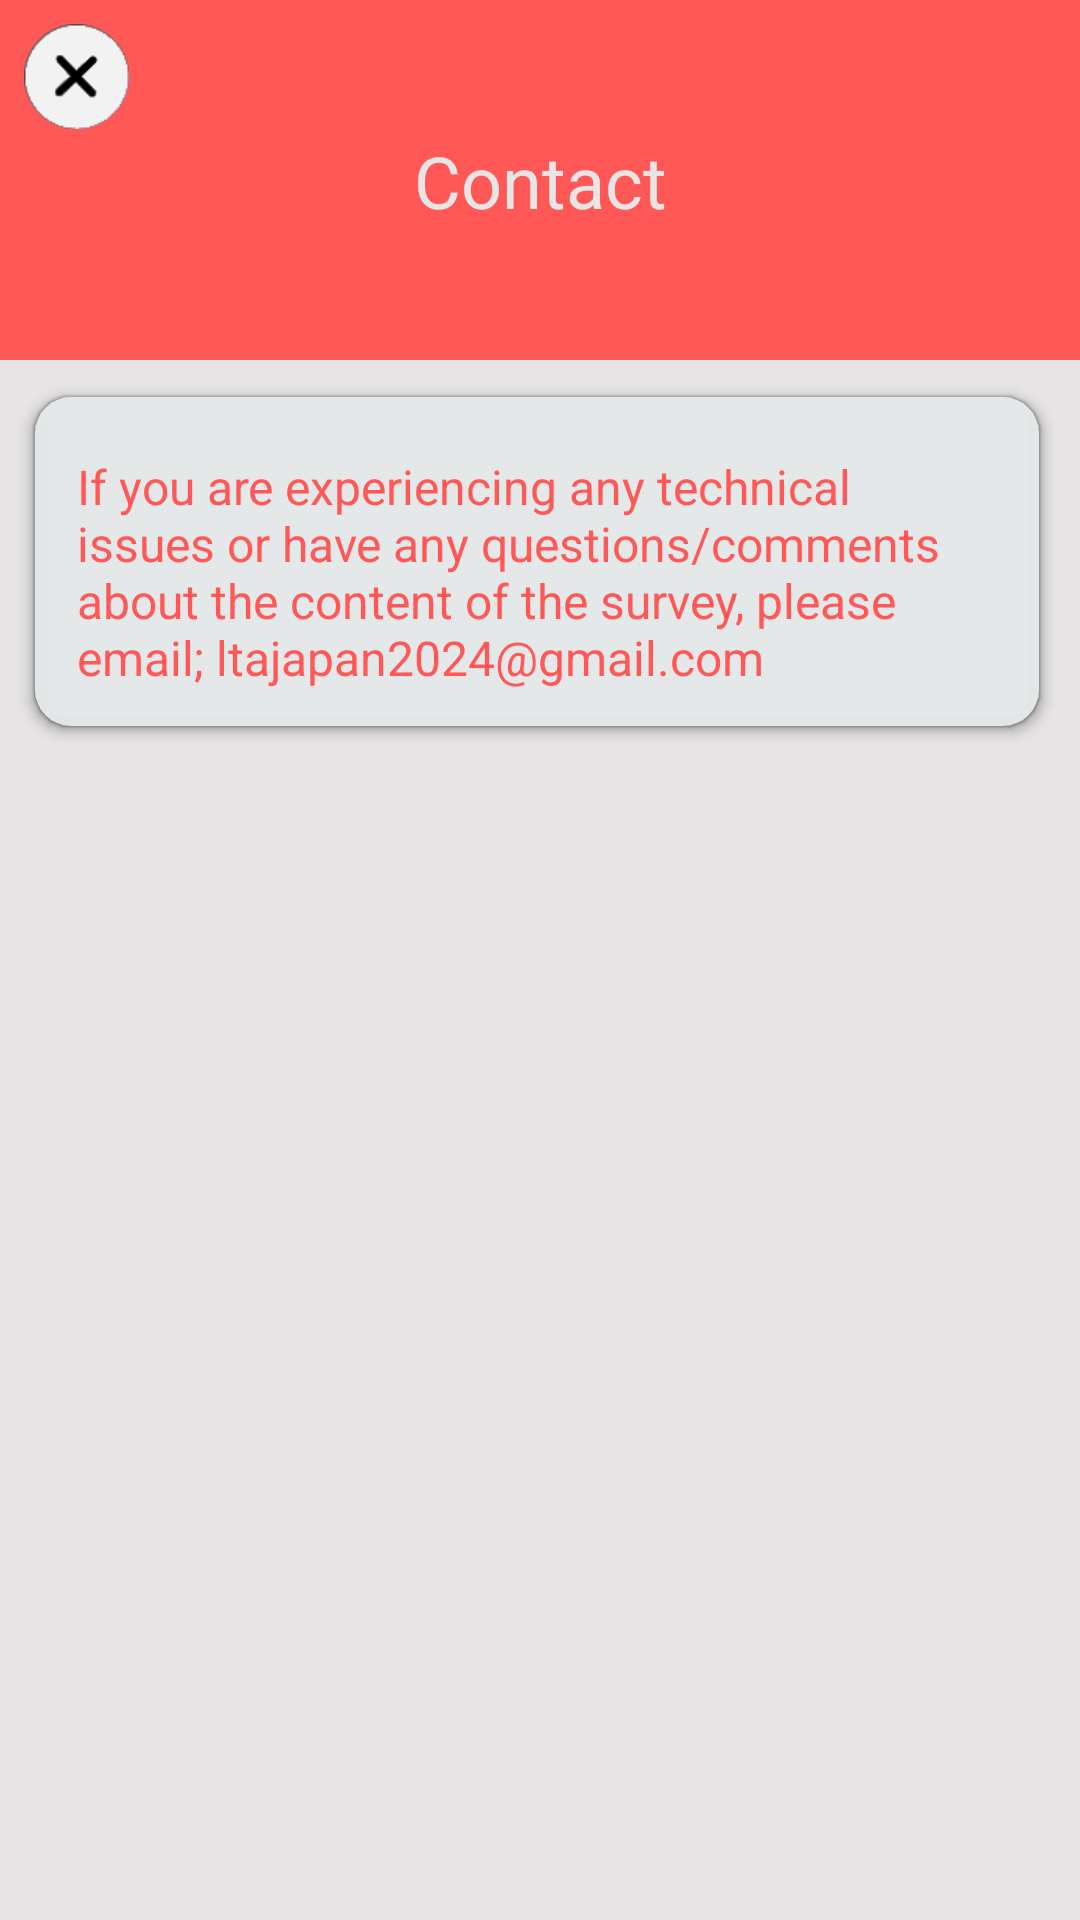

Locate icon controls on the screen. Image size 1080px x 1920px, boxes as BBox(x1, y1, x2, y2).
close: BBox(24, 24, 129, 129)
